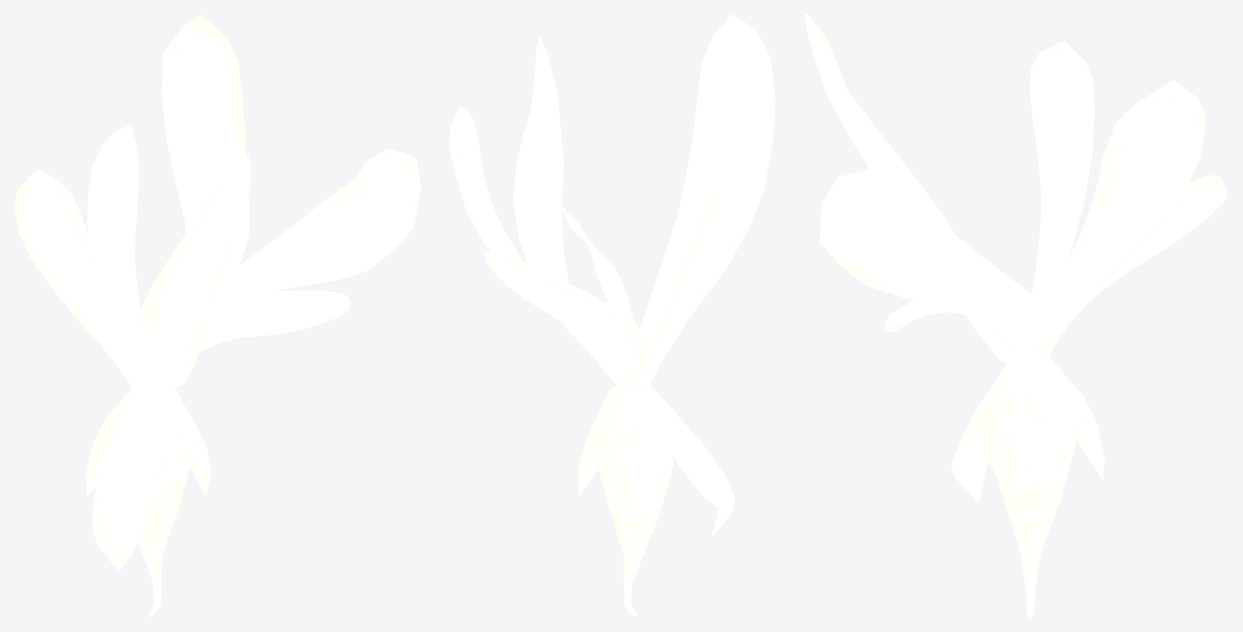
3 views of the same model, side by side, from view 1: azimuth 30°, elevation 25°; view 2: azimuth 150°, elevation 25°; view 3: azimuth 270°, elevation 25° (orthographic). The views are drawn at different scales.
Visible parts, largest first — view 1: SM_Snapdragon_v2_LOD0; view 2: SM_Snapdragon_v2_LOD0; view 3: SM_Snapdragon_v2_LOD0.
Boxes of the visible parts, x1,y1,x2,y2 form: SM_Snapdragon_v2_LOD0: (14,14,420,616); SM_Snapdragon_v2_LOD0: (449,14,775,617); SM_Snapdragon_v2_LOD0: (804,14,1228,617).
Size of the model in its own units: 0.2377 by 0.4177 by 0.2654.
1 material, 1 textured.
